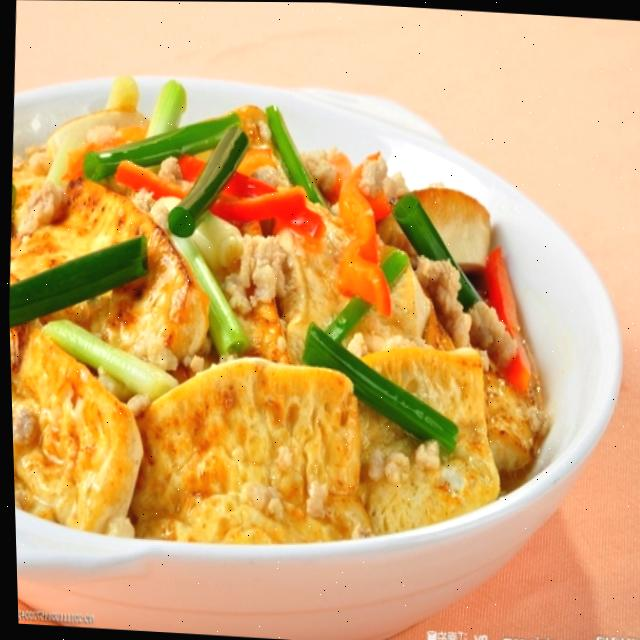豆腐料理: (1, 48, 561, 584)
